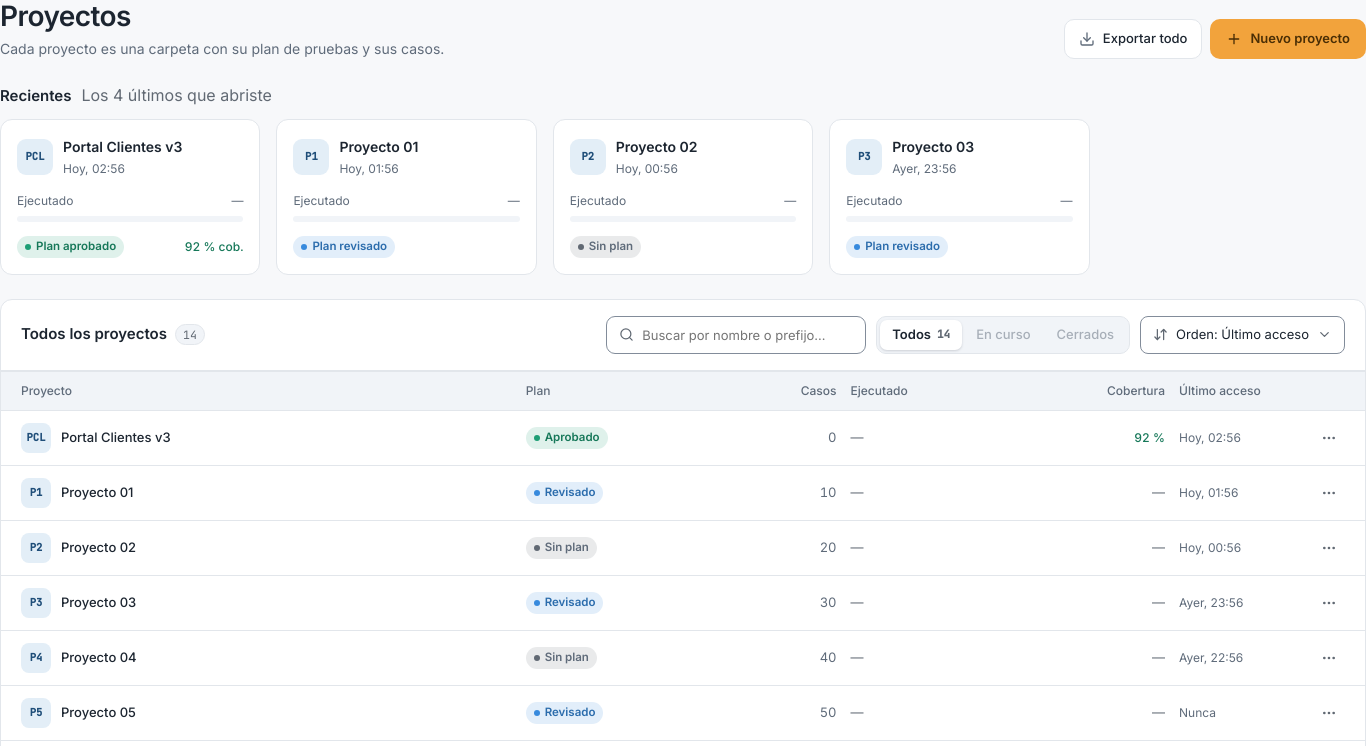
Test case: Proyectos (SPEC §8) › orders by name and changes page
This screenshot has width=1366, height=746.
Click the button named "Orden: Último acceso · Descendente".
click(1243, 335)  # box [1140,316,1345,354]
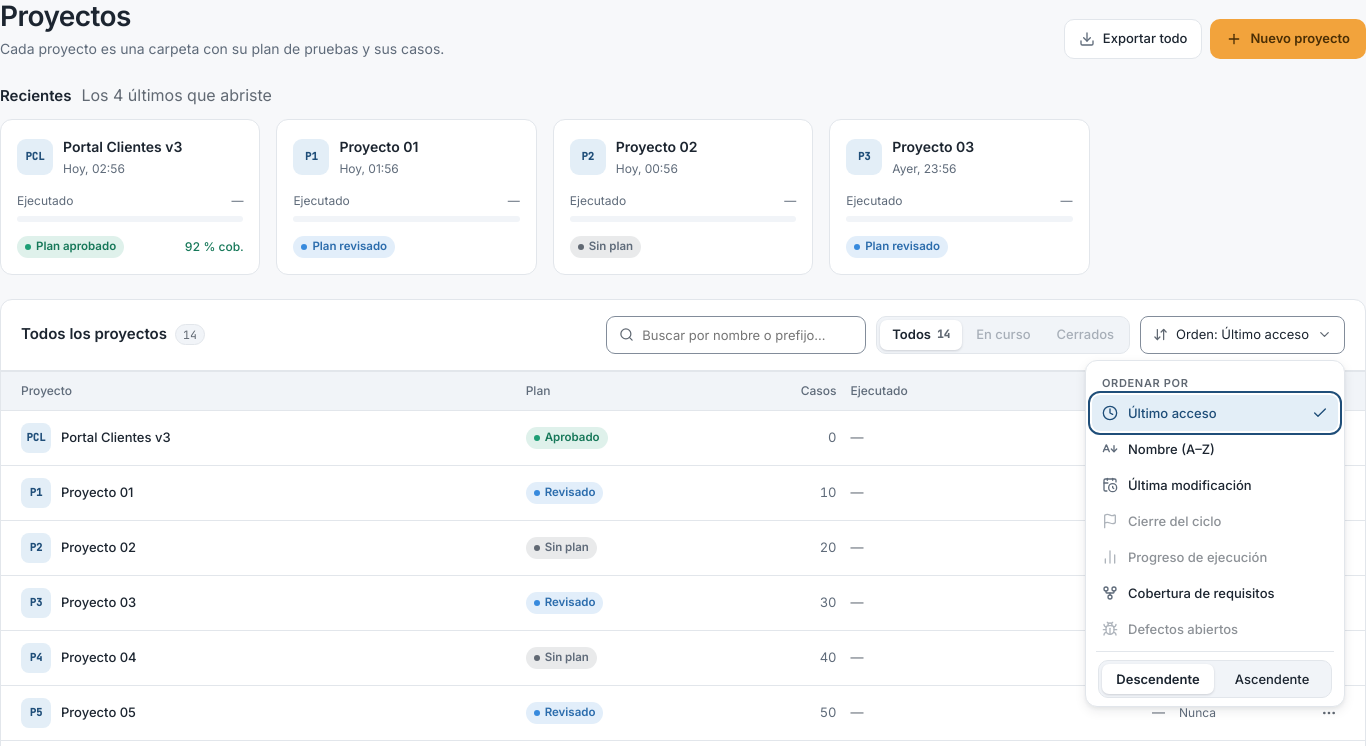
Expected: the menu item "Progreso de ejecución" is disabled, [1092,539,1338,575]
Expected: the menu item "Cierre del ciclo" is disabled, [1092,503,1338,539]
Click the menu item "Nombre (A–Z)".
click(1215, 449)  # box [1092,431,1338,467]
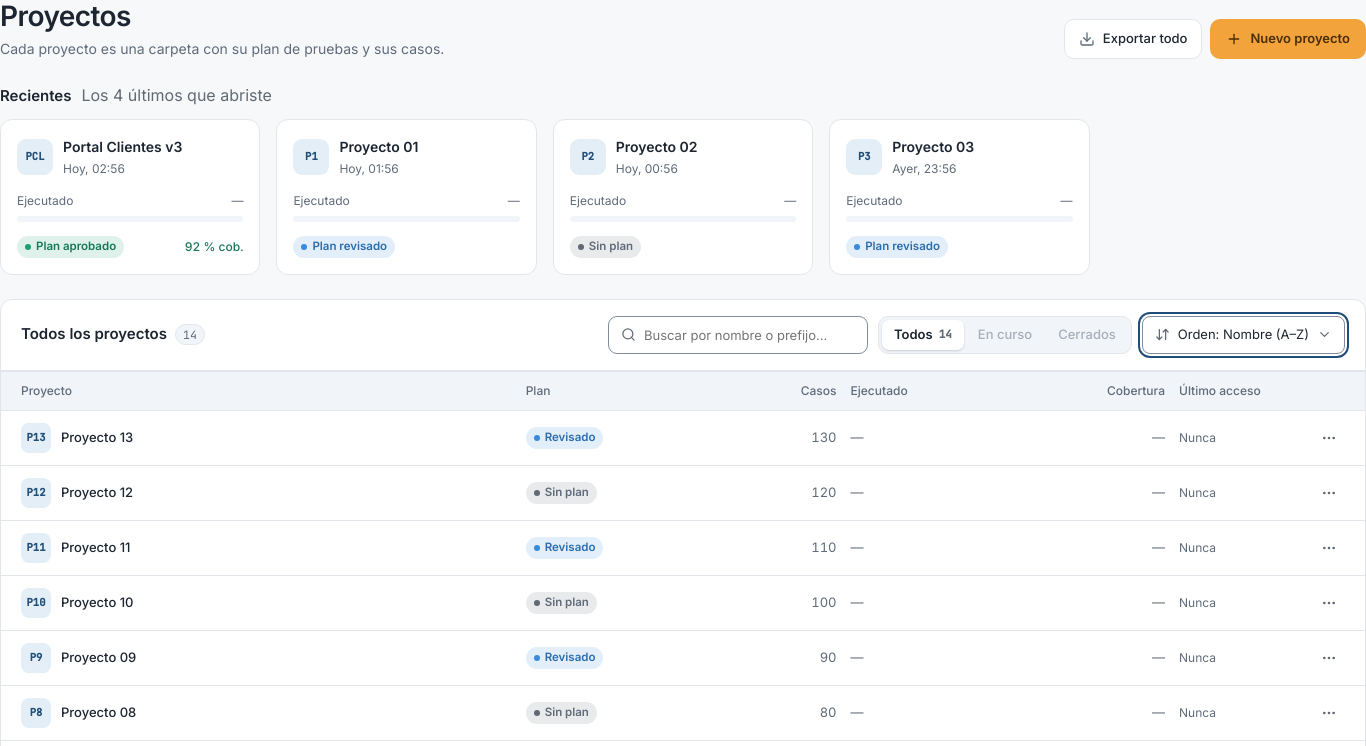
Click the button named "Orden: Nombre (A–Z) · Descendente".
click(1243, 335)  # box [1142,316,1345,354]
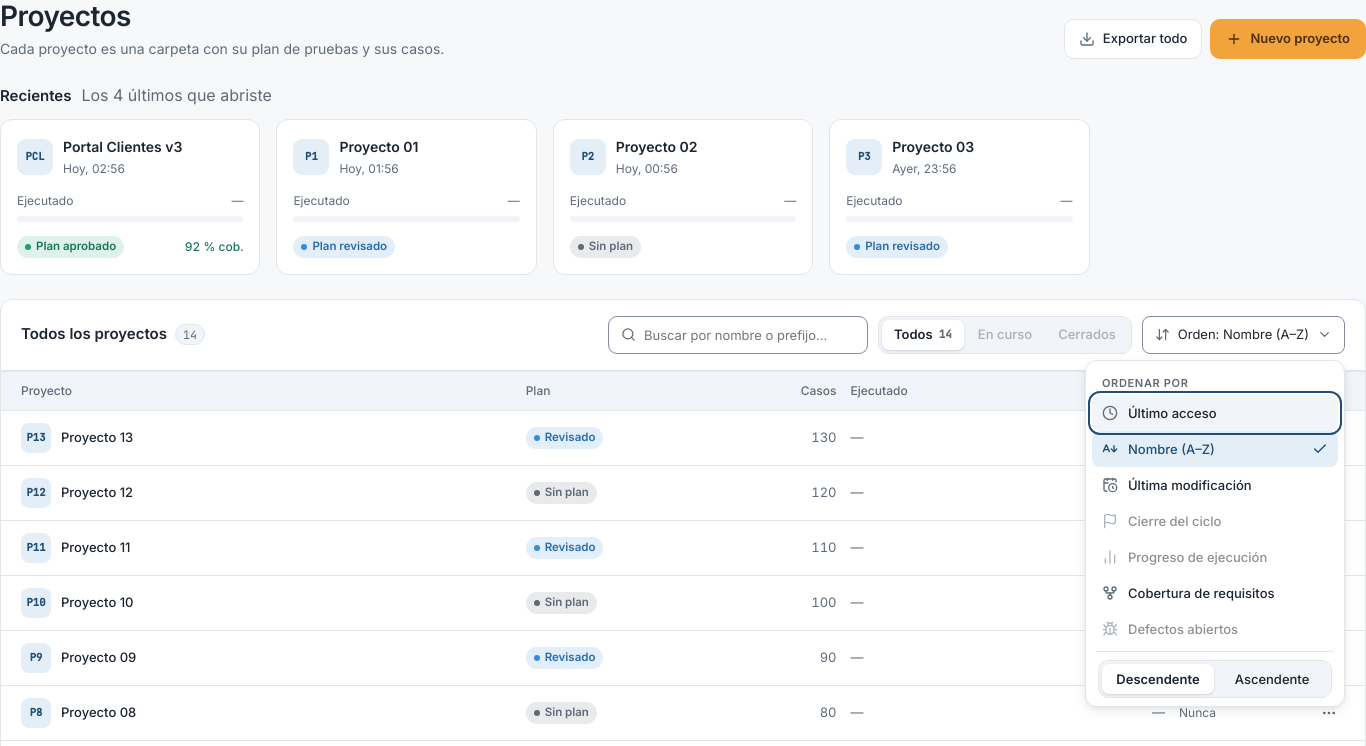
Click the menu item "Ascendente".
click(1272, 679)  # box [1216,664,1328,694]
(page scrolled)
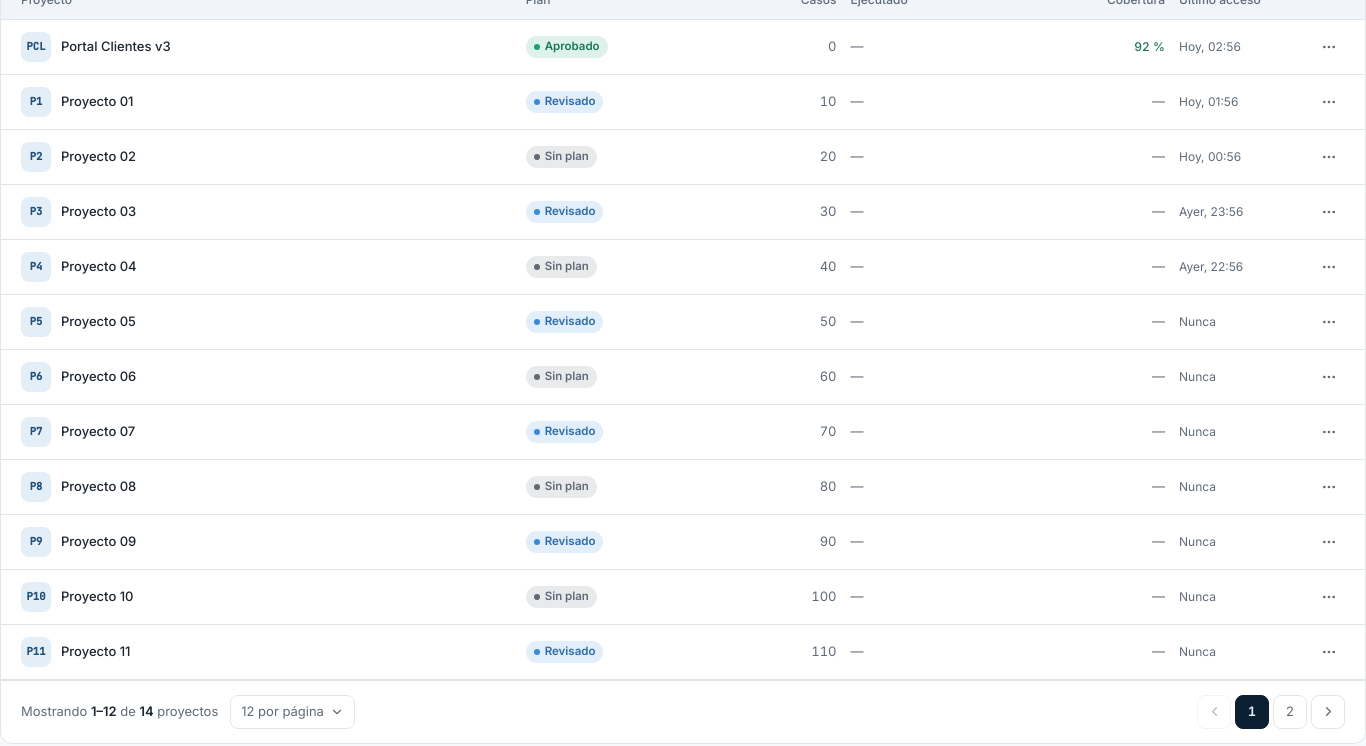
Expected: the link "PCL Portal Clientes v3" is shown, [21,32,170,62]
Click the button named "Página 2".
click(1290, 712)  # box [1273,695,1307,729]
(page scrolled)
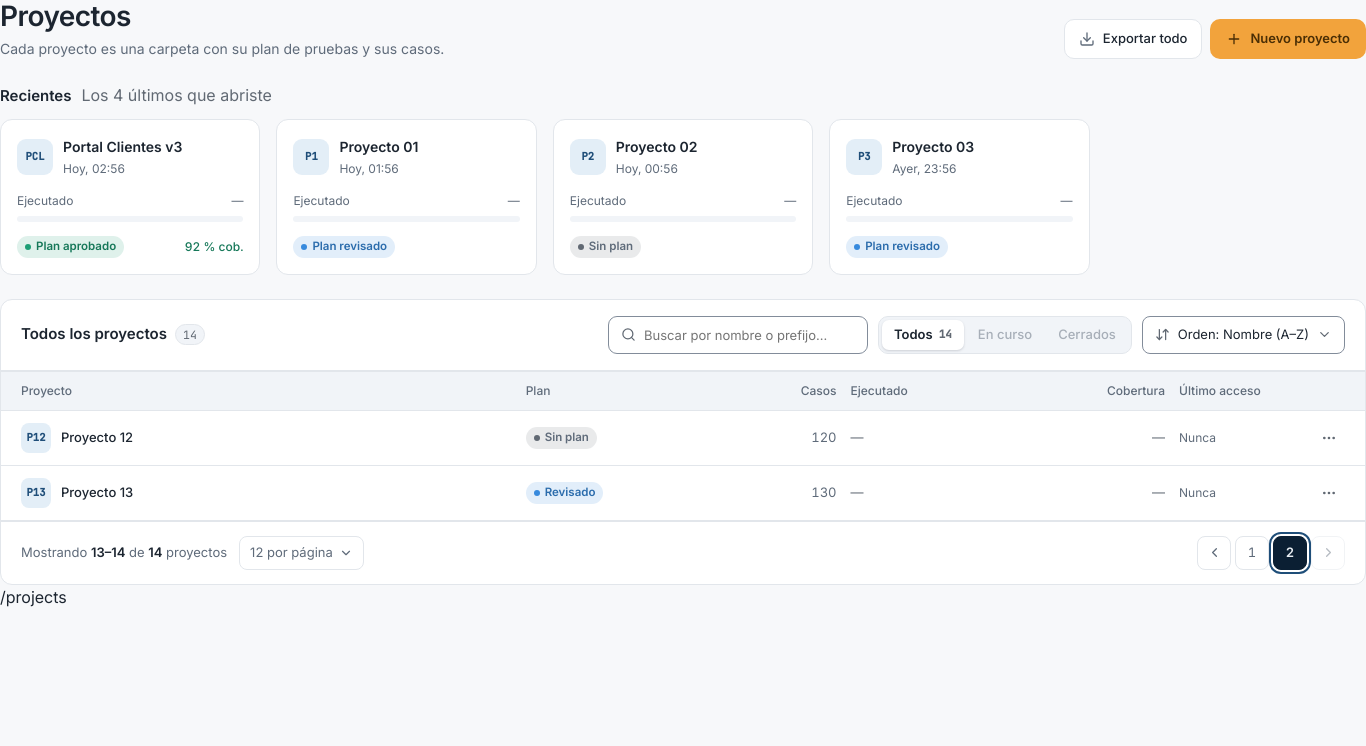
Expected: the text "Mostrando 13–14 de 14 proyectos" is shown, [21,543,227,562]
